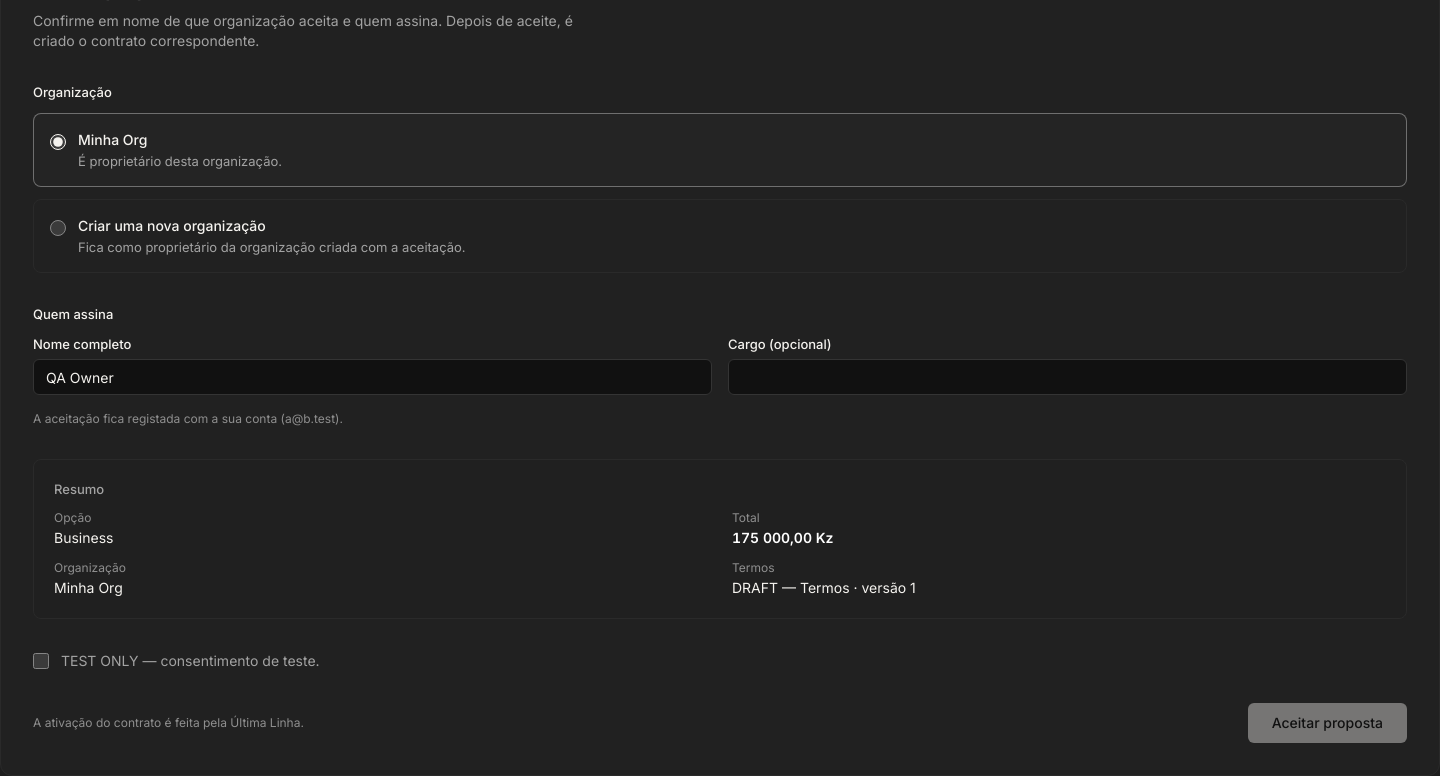
Test: Proposal review & acceptance (backend is the authority) › explains the backend's refusal (non-owner) with an actionable message
(page scrolled)
Click the checkbox labelled "TEST ONLY — consentimento de teste.". click: [41, 661]
box: 33,653 -> 49,669
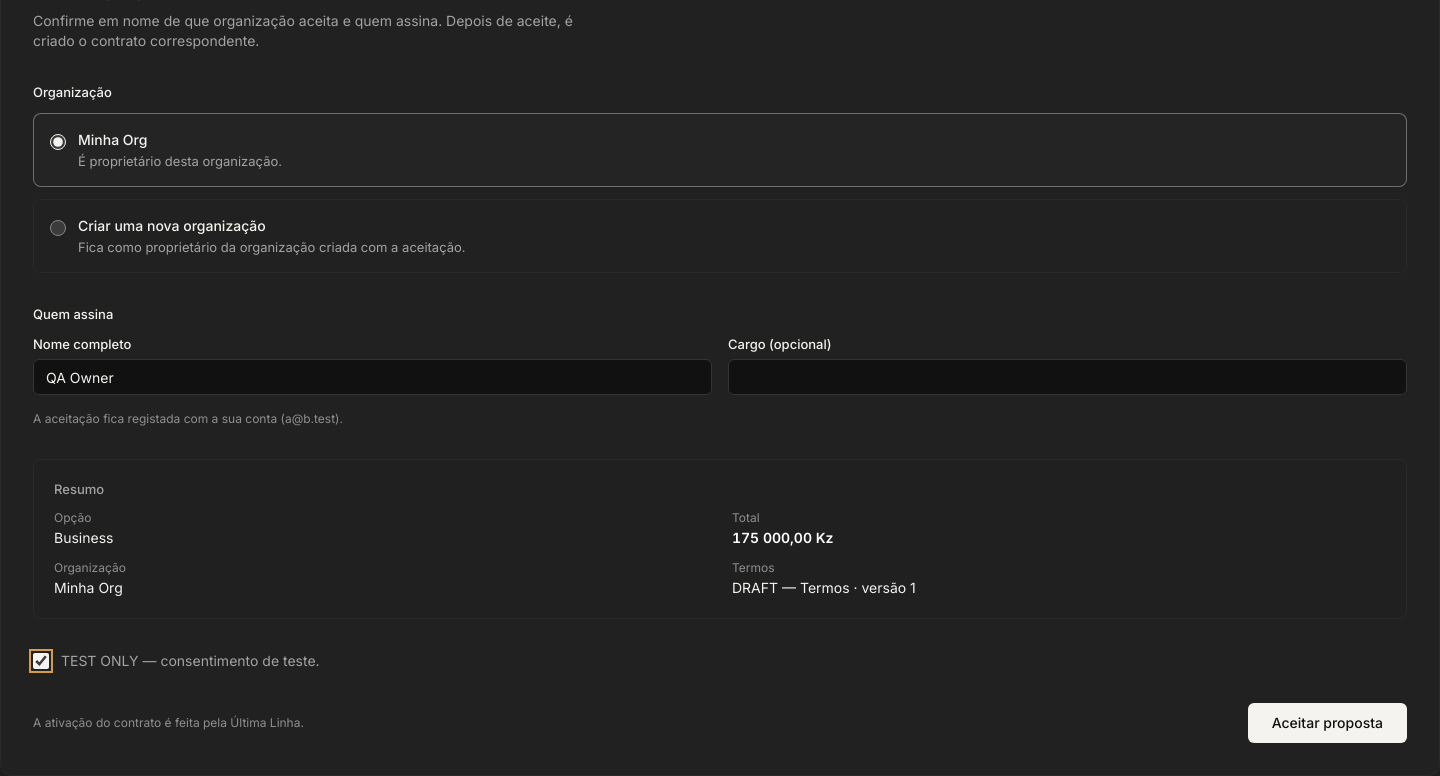
Click the button "Aceitar proposta". click: [1327, 723]
box: 1248,703 -> 1407,743
(page scrolled)
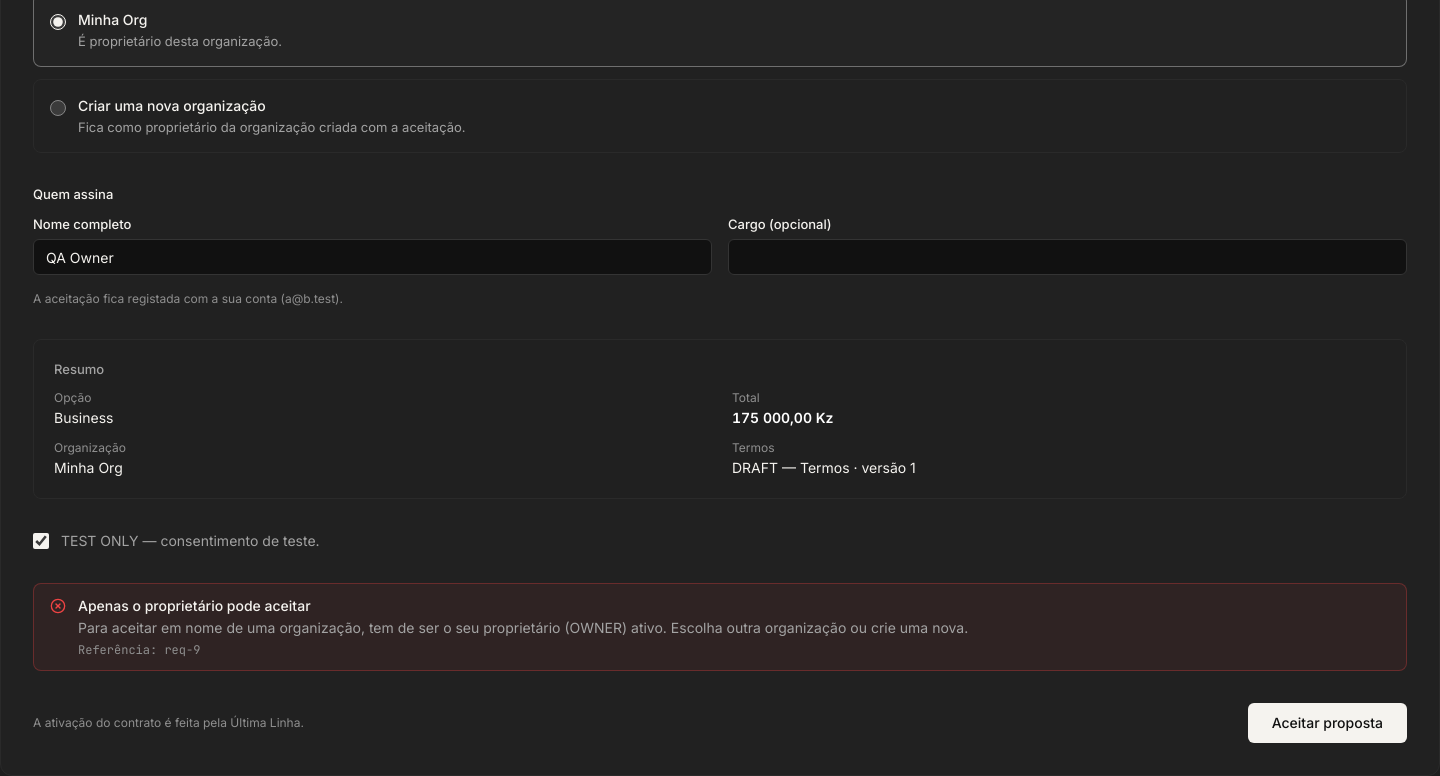
Expected: the text "Apenas o proprietário pode aceitar" is shown, 78,597 -> 311,614
Expected: the text "Referência: req-9" is shown, 78,642 -> 200,658
